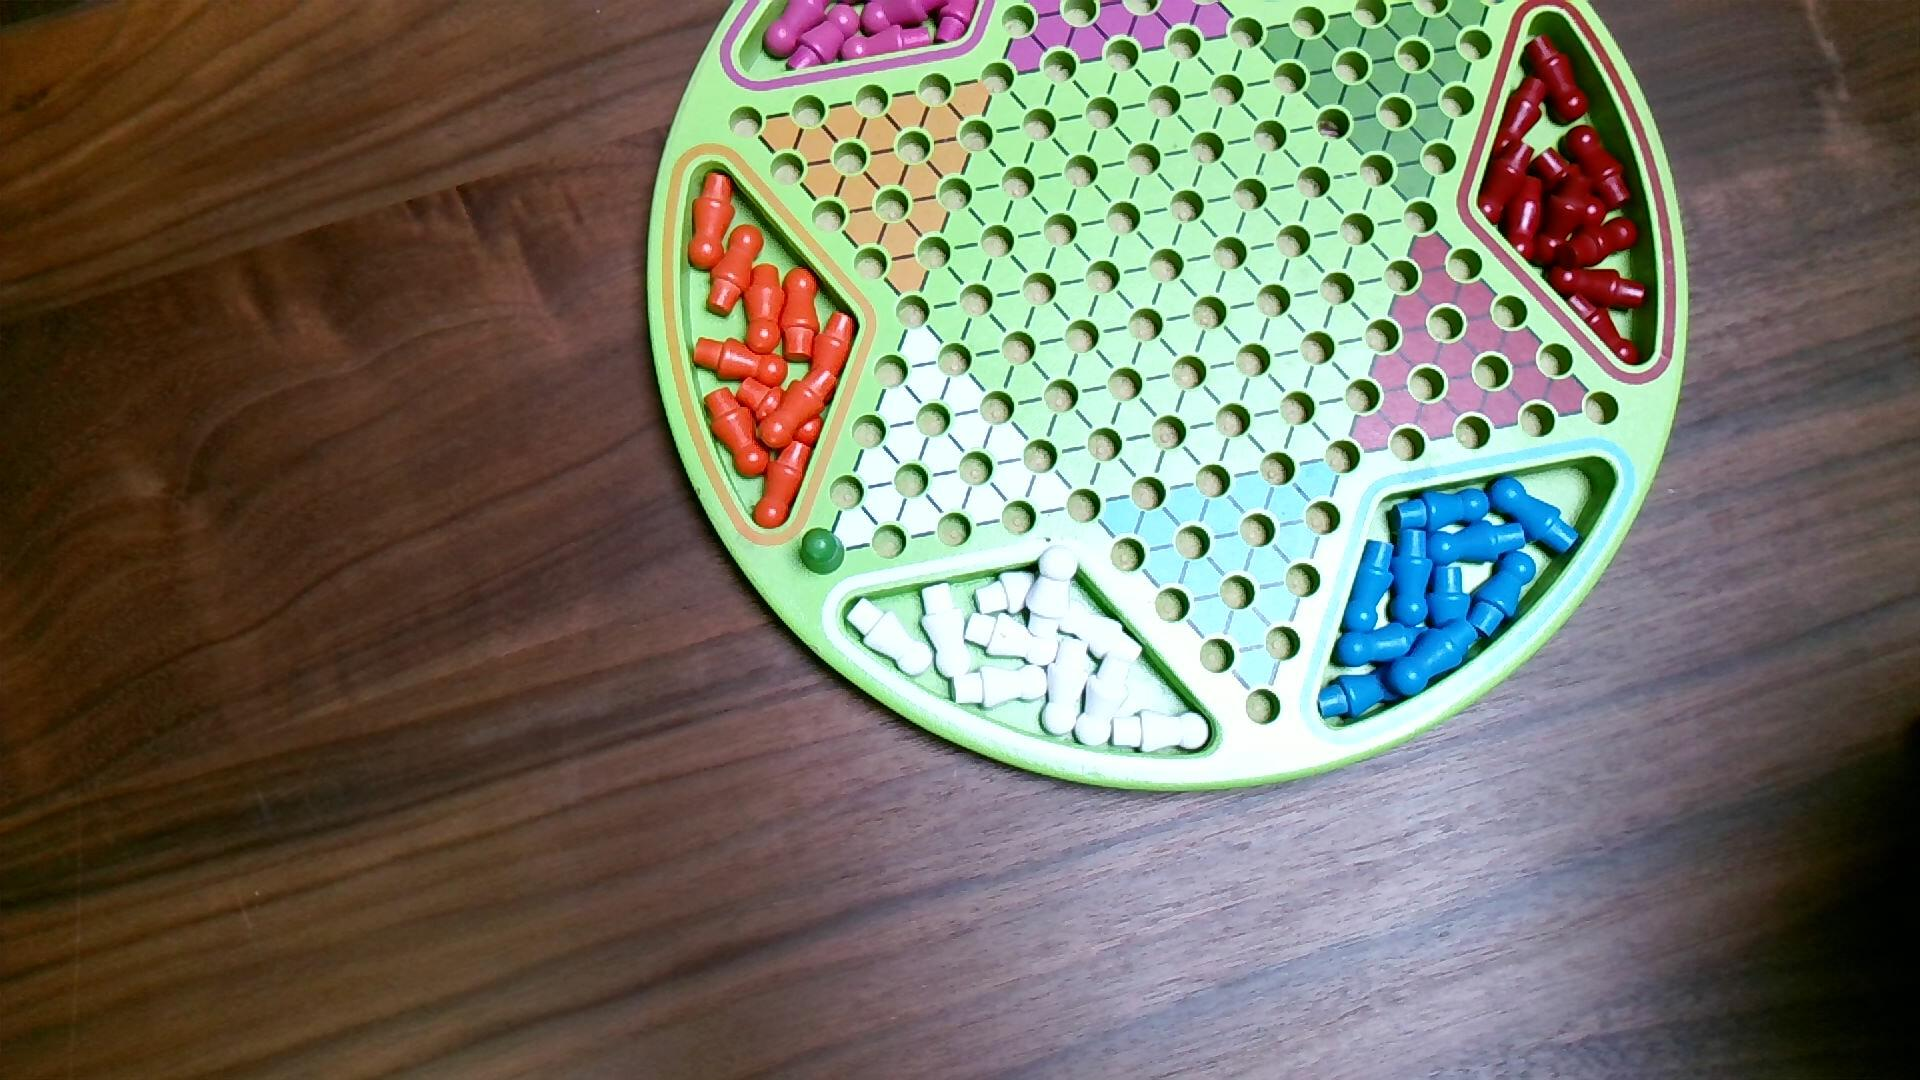G: (796, 525, 847, 578)
